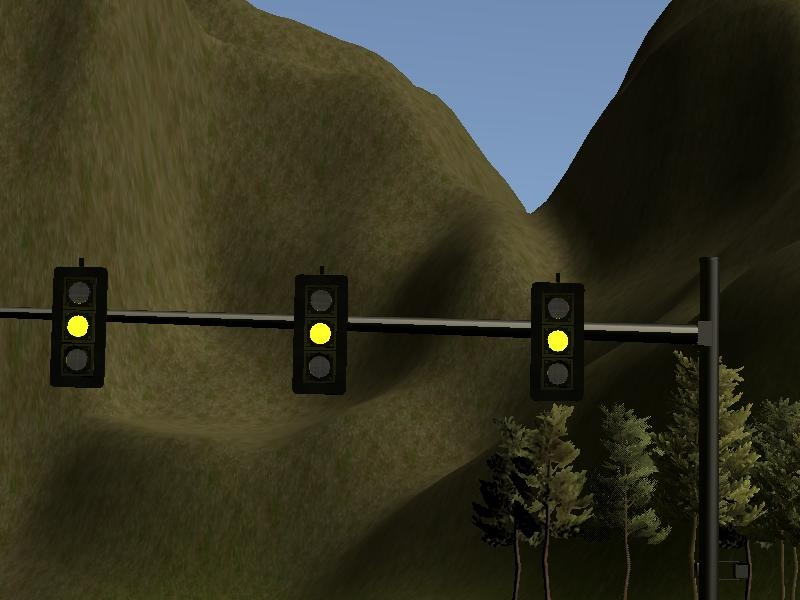YELLOW: (292, 273, 349, 396), (529, 279, 586, 402), (52, 269, 106, 389)
